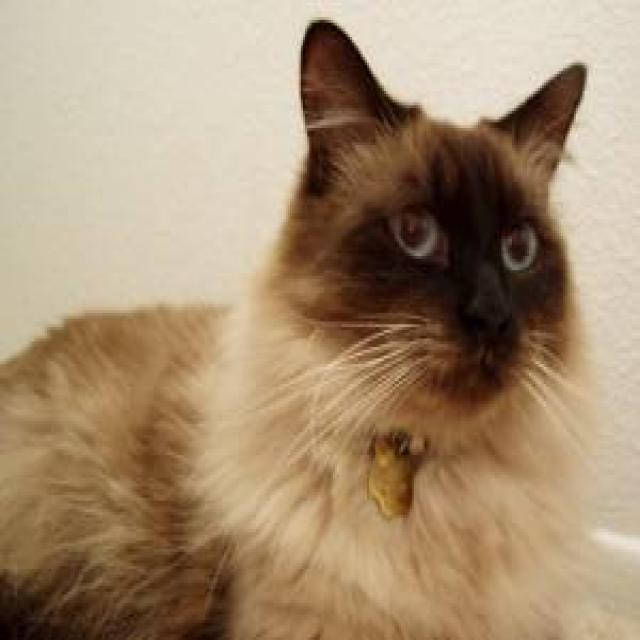Siamese: (266, 18, 593, 440)
